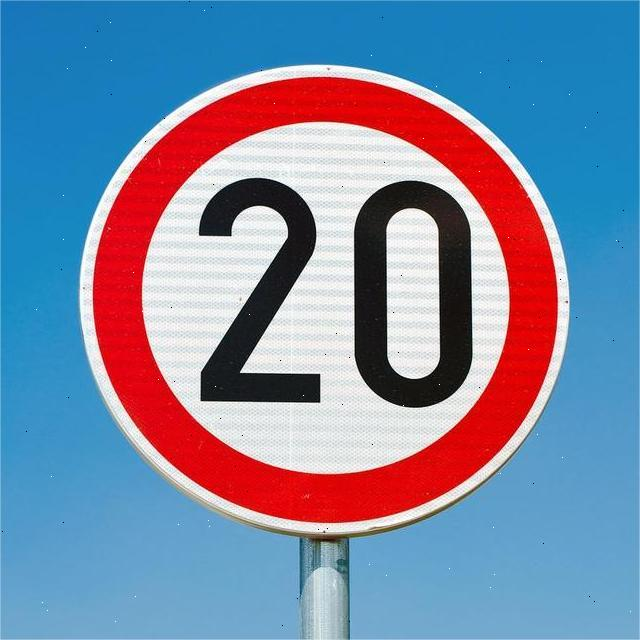speed limit 20: (77, 63, 568, 537)
